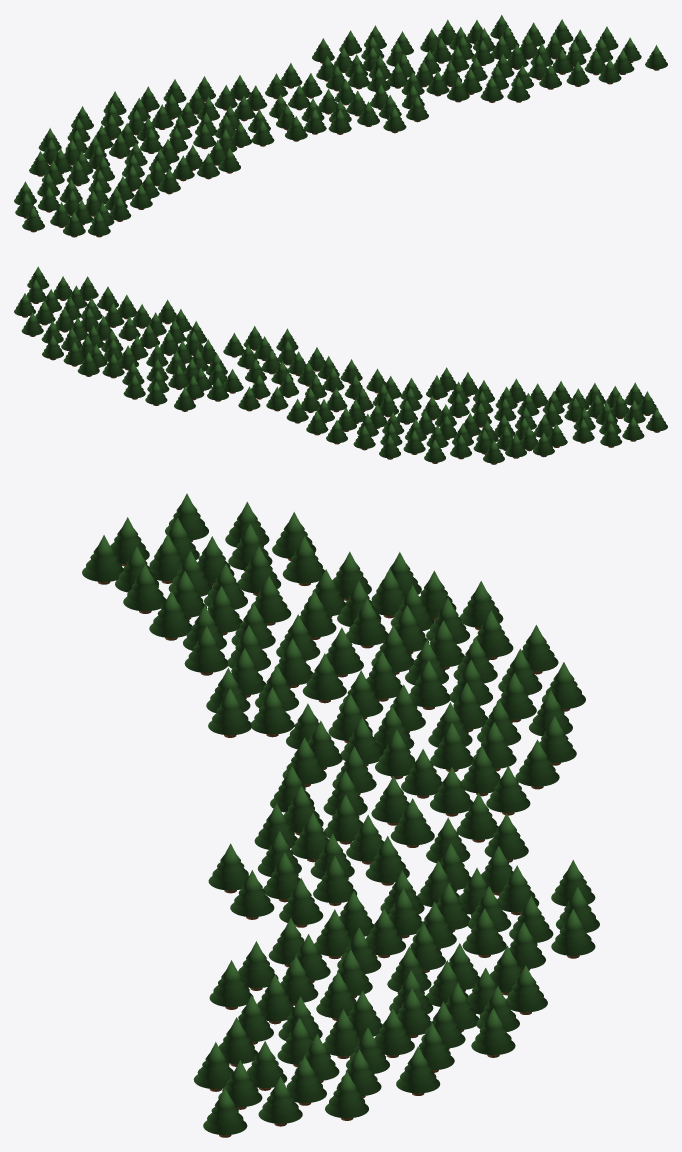
Rendered from forest.glb.
3 renders of one model, top to bottom at view 1: azimuth 30°, elevation 25°; view 2: azimuth 150°, elevation 25°; view 3: azimuth 270°, elevation 25°, orthographic. The views are drawn at different scales.
Visible parts, largest first — view 1: tree.194; view 2: tree.194; view 3: tree.194.
Part boxes in pixels (x1,y1,x2,y2): tree.194: [14, 15, 667, 237]; tree.194: [14, 266, 667, 464]; tree.194: [82, 493, 599, 1137].
Bounding box in the file's own units: 264 × 9.52 × 94.14.
1 material, 1 textured.
